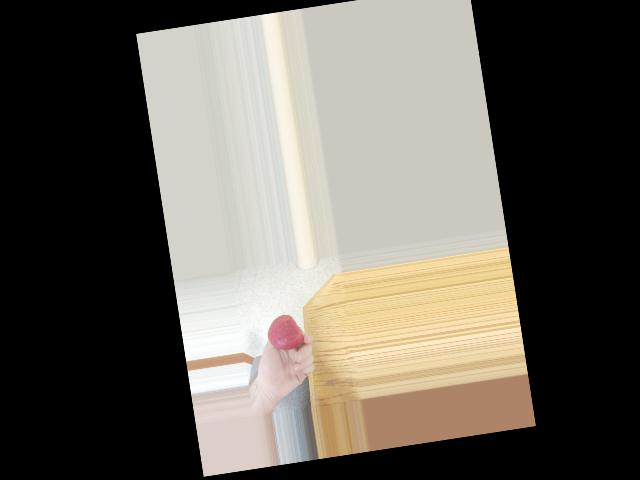apple: (265, 310, 304, 352)
